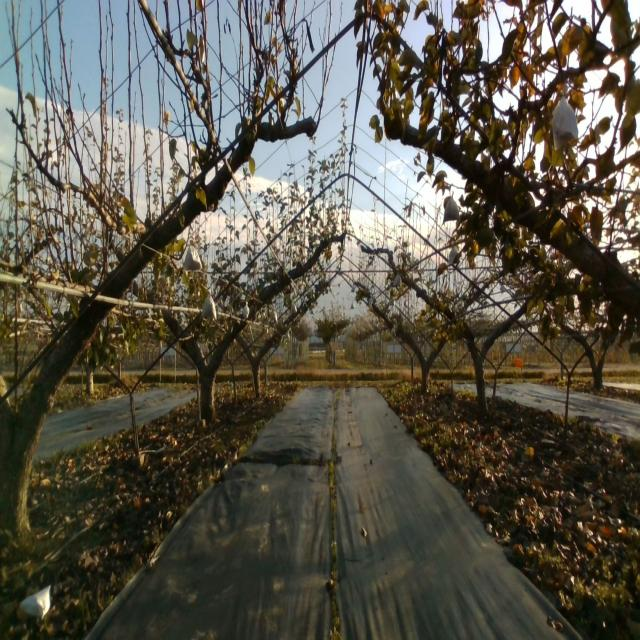pearbags: (552, 84, 579, 150), (443, 190, 460, 224), (183, 244, 202, 270), (202, 289, 217, 321), (447, 247, 459, 267)
